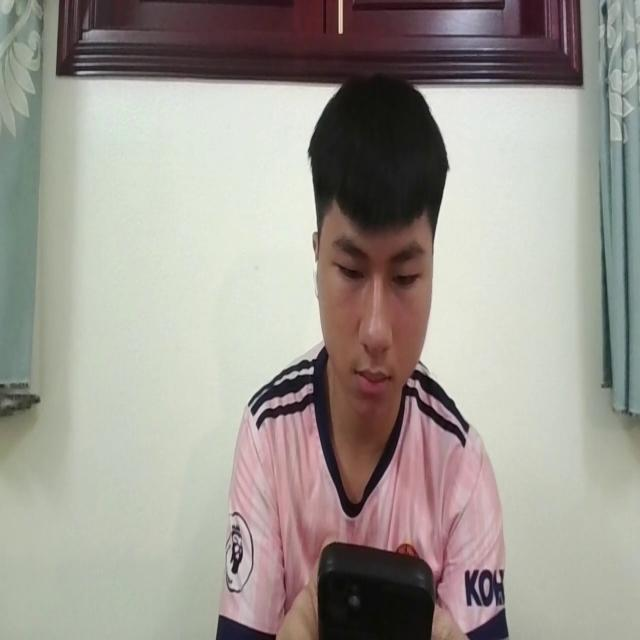phone: (316, 535, 434, 640)
student: (223, 59, 508, 640)
